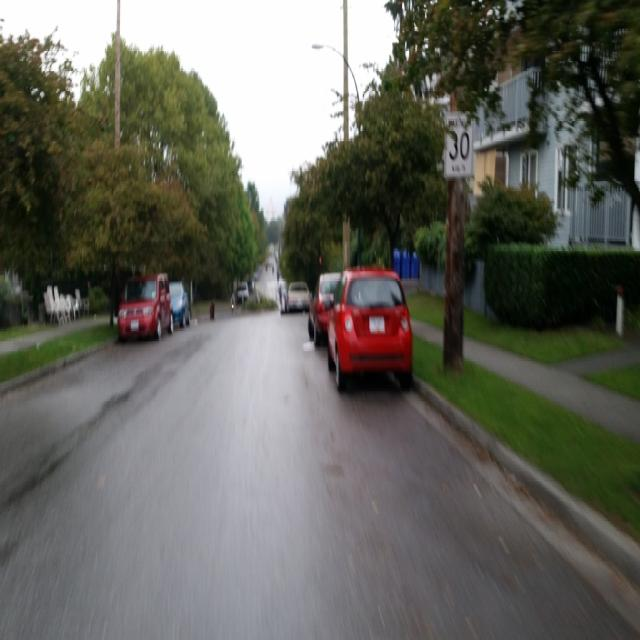car: (324, 266, 410, 385), (114, 271, 173, 337), (285, 277, 311, 310)
